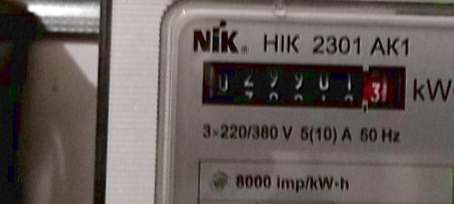0: (316, 66, 332, 91), (215, 69, 231, 92)
1: (343, 67, 356, 91)
2: (241, 65, 257, 87)
3: (368, 80, 384, 103)
9: (292, 67, 305, 91), (267, 66, 280, 87)
screen: (194, 52, 416, 120)
